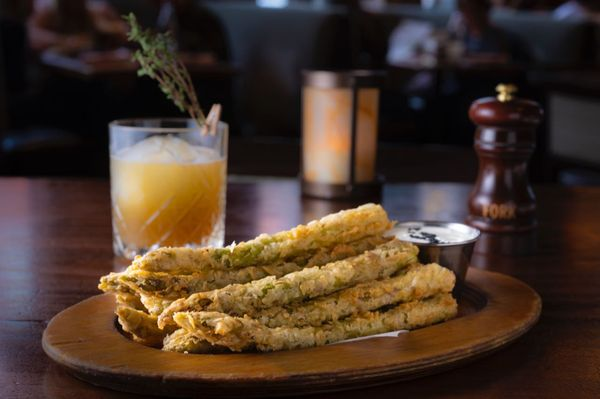pizza: (108, 114, 230, 265)
soup: (105, 203, 460, 357)
